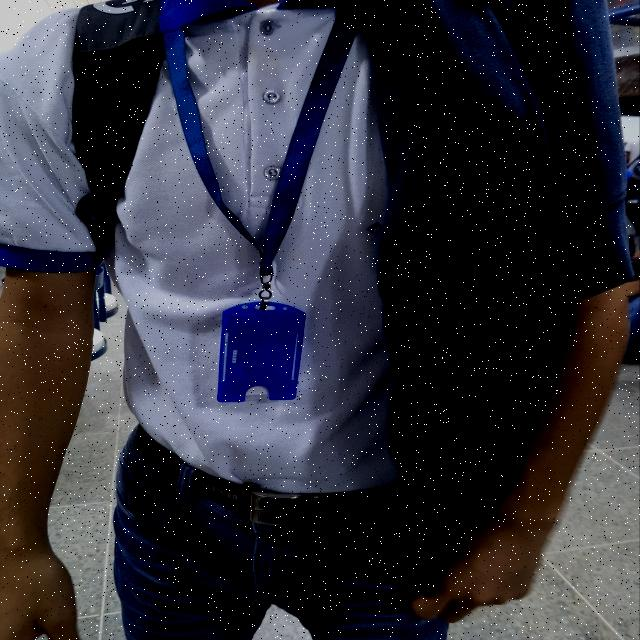carnet: (215, 302, 309, 404)
uniforme_superior: (0, 0, 620, 494)
